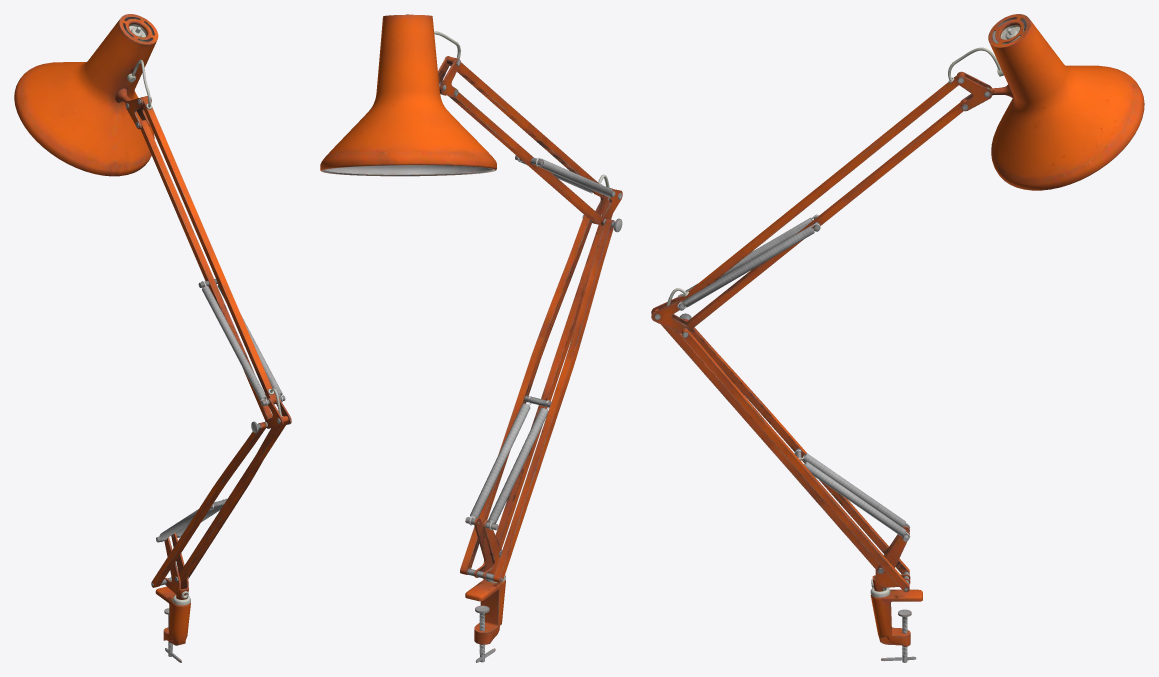
File: desk_lamp_arm_01.glb
3 views of the same model, side by side, from view 1: azimuth 30°, elevation 25°; view 2: azimuth 150°, elevation 25°; view 3: azimuth 270°, elevation 25° (orthographic). The views are drawn at different scales.
Parts seen in each view (by area): view 1: desk_lamp_arm_01; view 2: desk_lamp_arm_01; view 3: desk_lamp_arm_01.
Part boxes in pixels (x1,y1,x2,y2): desk_lamp_arm_01: (14, 14, 291, 662); desk_lamp_arm_01: (320, 14, 622, 662); desk_lamp_arm_01: (651, 14, 1144, 662).
Size of the model in its own units: 0.2017 by 0.8926 by 0.6139.
2 materials, 2 textured.
